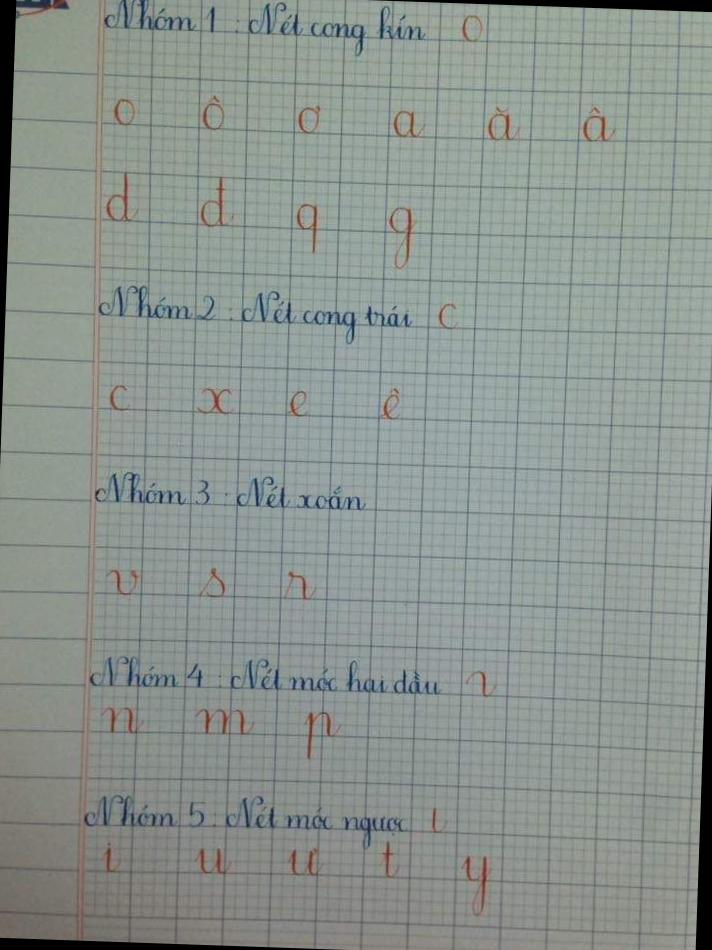text: (78, 784, 412, 856), (95, 279, 417, 352), (101, 0, 431, 65), (86, 648, 446, 705), (92, 466, 370, 517), (196, 171, 240, 234), (380, 204, 419, 274), (297, 706, 343, 764), (456, 852, 495, 920), (191, 702, 259, 740), (100, 170, 143, 228), (288, 197, 322, 260), (96, 701, 149, 741), (480, 104, 523, 146), (579, 103, 620, 147), (276, 567, 320, 604), (461, 666, 502, 704), (192, 384, 237, 418), (192, 564, 230, 604), (286, 842, 324, 882), (390, 105, 430, 142), (193, 844, 234, 878), (372, 386, 408, 424), (101, 565, 141, 599), (198, 94, 231, 134), (94, 836, 124, 878), (377, 839, 404, 884), (293, 102, 326, 138), (432, 300, 466, 334), (280, 389, 313, 422), (106, 380, 136, 416), (112, 95, 139, 130), (16, 0, 74, 15), (459, 12, 486, 44), (427, 804, 449, 838)
